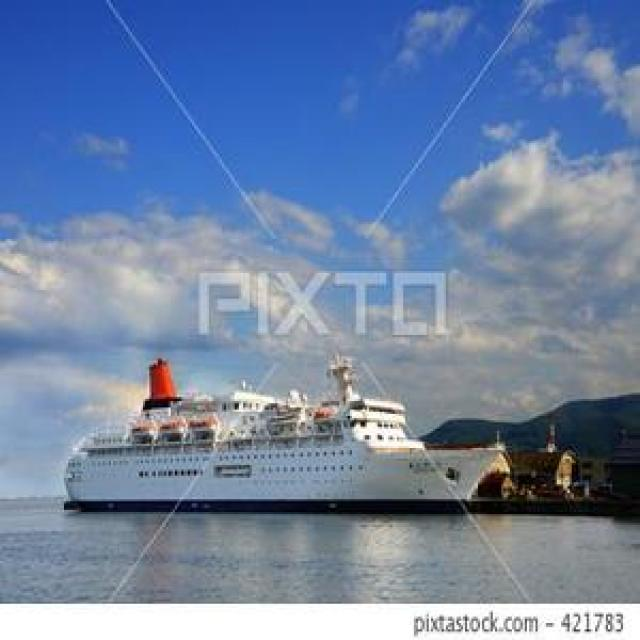cargoship: (55, 356, 483, 510)
